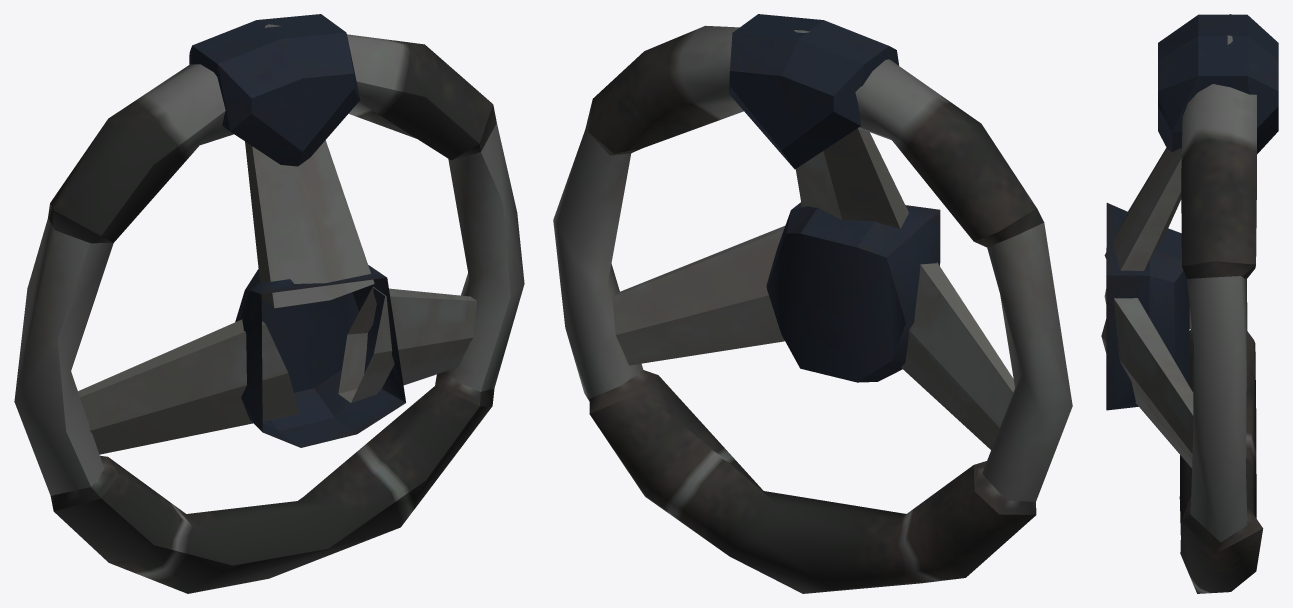
The model's file is arcadecase8c.fbx.
3 renders of one model, left to right at view 1: azimuth 30°, elevation 25°; view 2: azimuth 150°, elevation 25°; view 3: azimuth 270°, elevation 25°, orthographic. The views are drawn at different scales.
Visible parts, largest first — view 1: MOD_SM_ArcadeCab_08c.001; view 2: MOD_SM_ArcadeCab_08c.001; view 3: MOD_SM_ArcadeCab_08c.001.
Boxes of the visible parts, x1,y1,x2,y2 form: MOD_SM_ArcadeCab_08c.001: (14,14,524,593); MOD_SM_ArcadeCab_08c.001: (553,14,1072,593); MOD_SM_ArcadeCab_08c.001: (1101,14,1278,593).
Size of the model in its own units: 3543 by 3703 by 1105.
